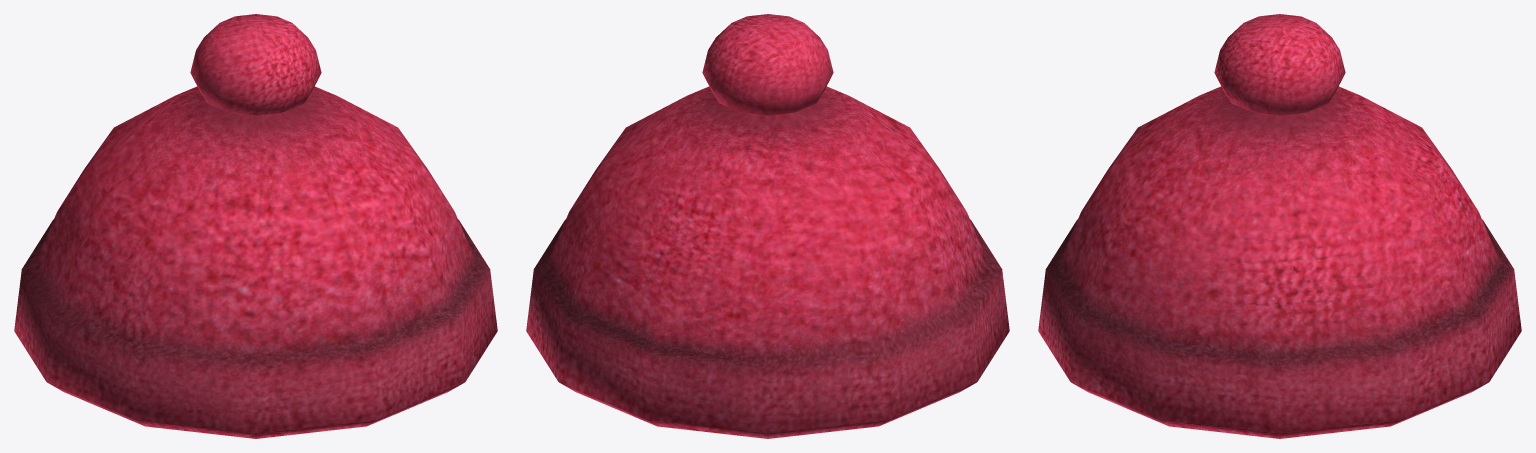
File: WinterHat.FBX
3 views of the same model, side by side, from view 1: azimuth 30°, elevation 25°; view 2: azimuth 150°, elevation 25°; view 3: azimuth 270°, elevation 25° (orthographic).
Visible parts, largest first — view 1: Tube001; view 2: Tube001; view 3: Tube001.
Part boxes in pixels (x1,y1,x2,y2): Tube001: (14, 14, 497, 438); Tube001: (526, 14, 1009, 438); Tube001: (1038, 14, 1521, 438).
Bounding box in the file's own units: 154 × 113 × 154.
